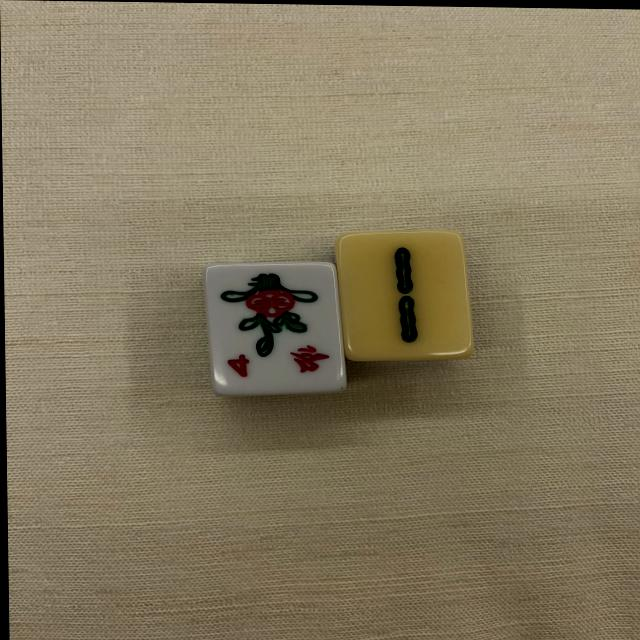ff4: (206, 264, 345, 398)
s2: (338, 234, 473, 363)
